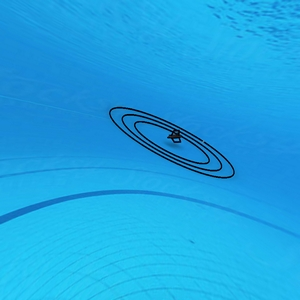submarine: (167, 130, 184, 147)
